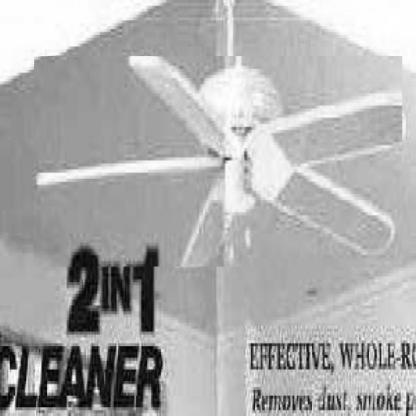ceiling-fan: (34, 56, 403, 267)
